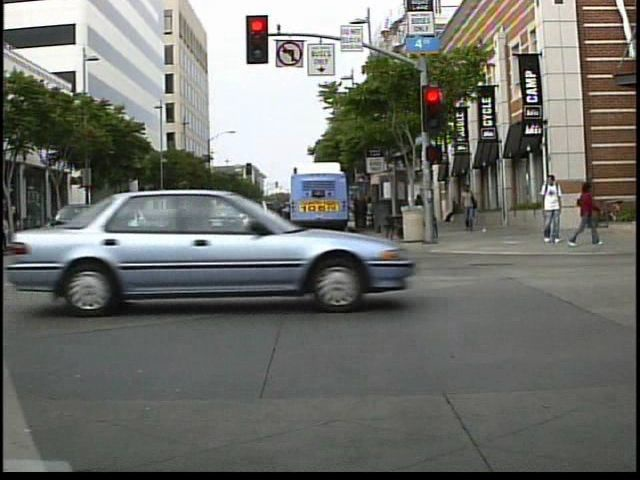person: (570, 177, 602, 248)
